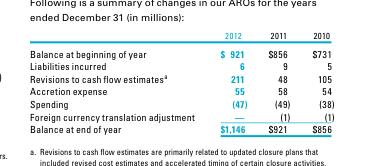table: (28, 28, 333, 134)
table column: (28, 28, 206, 134), (206, 28, 256, 134), (256, 28, 300, 134), (300, 28, 333, 134)
table column header: (28, 28, 333, 43)
table row: (28, 43, 333, 59), (28, 28, 333, 43), (28, 71, 333, 84), (28, 96, 333, 109), (28, 109, 333, 122), (28, 59, 333, 71), (28, 84, 333, 96), (28, 122, 333, 134)
